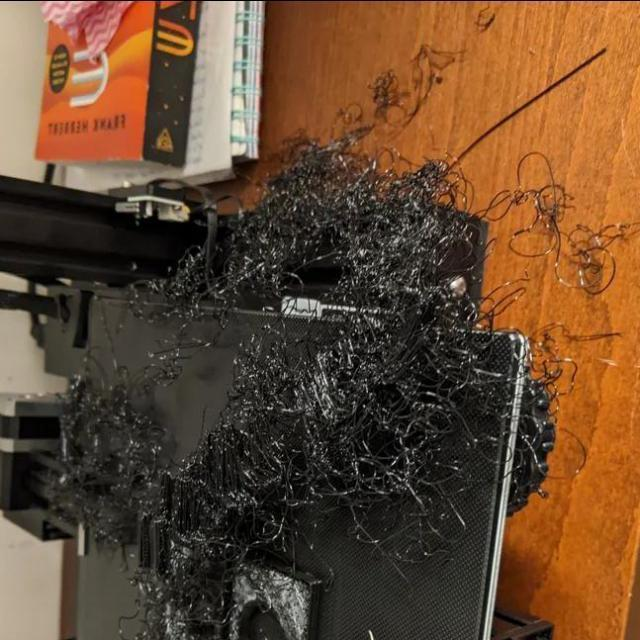spaghetti: (272, 152, 456, 308), (322, 392, 470, 522), (61, 388, 167, 534), (181, 442, 296, 556), (338, 304, 459, 402), (224, 343, 320, 458), (144, 245, 258, 329), (126, 562, 218, 632)
